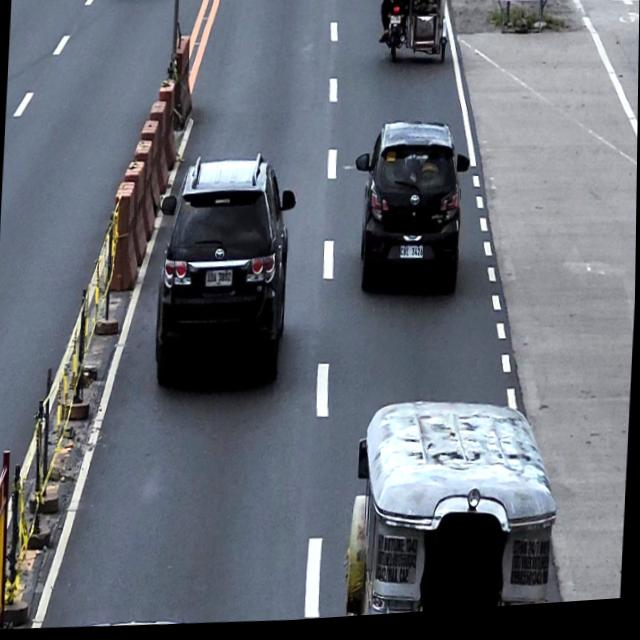Car: (152, 150, 300, 402), (349, 118, 473, 307)
Jeep: (343, 391, 565, 622)
License-Plate: (204, 271, 235, 291), (399, 249, 425, 266), (389, 20, 401, 31)
Tricycle: (377, 0, 451, 76)
